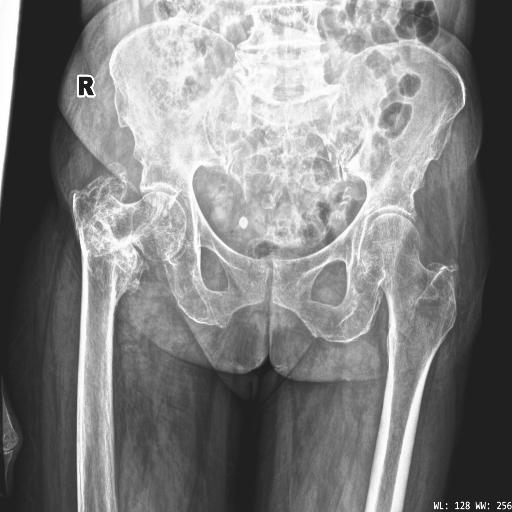intertrochanteric: (68, 161, 150, 345), (115, 191, 187, 261)
normal: (361, 213, 462, 414)
